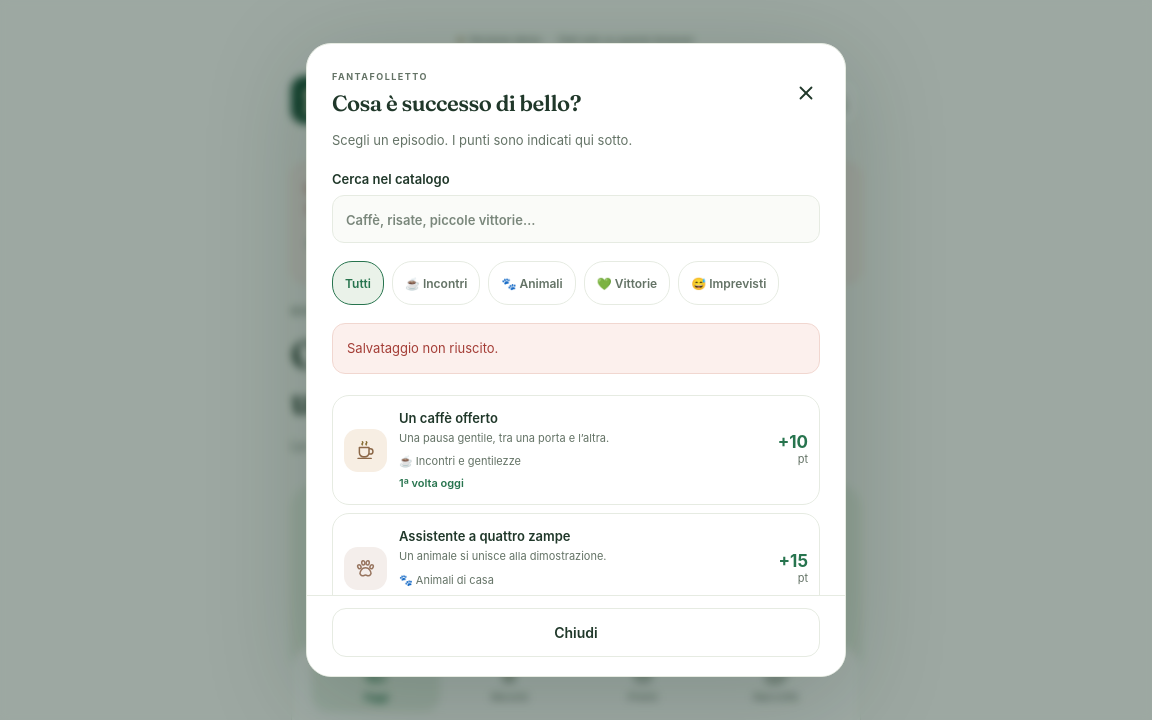
Scenario: un salvataggio fallito conserva il catalogo e permette di riprovare o chiudere
Earlier steps of the test are not shown.
Expected: the message reads "Salvataggio non riuscito.", x1=347 y1=340 x2=498 y2=356
Expected: the button "Un caffè offerto" is enabled, x1=332 y1=395 x2=820 y2=505
Step 1. Click the button named "Chiudi" → (806, 93), box x1=782 y1=69 x2=830 y2=117
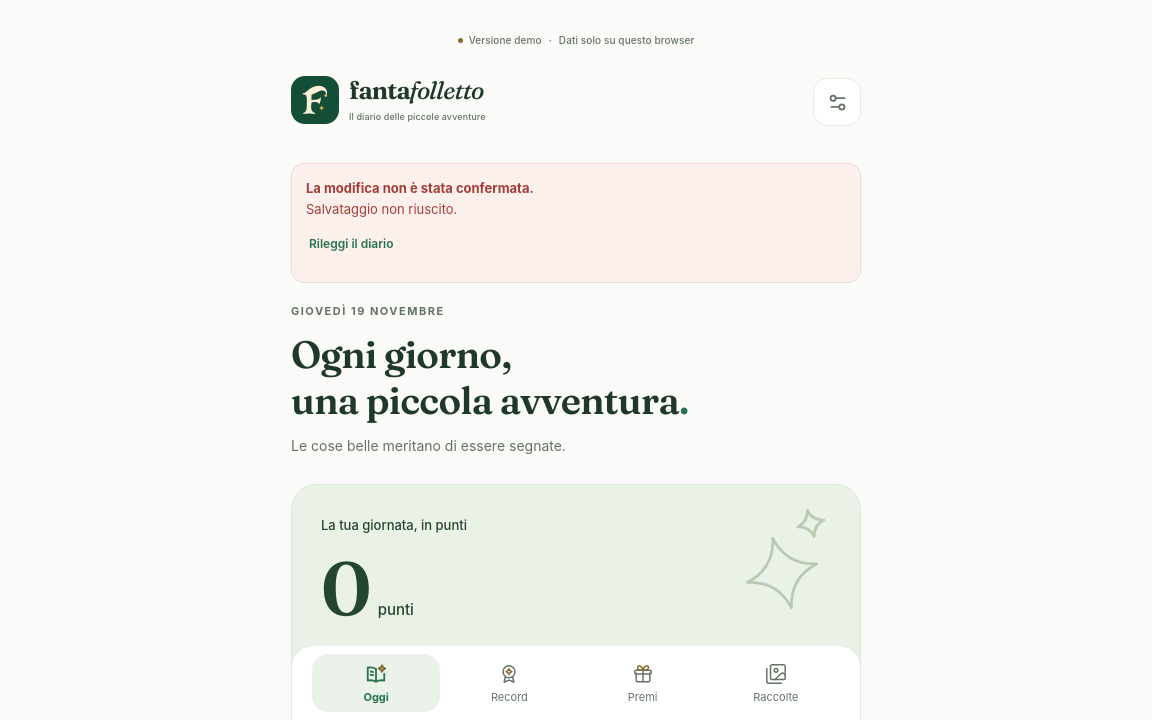
Expected: the dialog is gone
